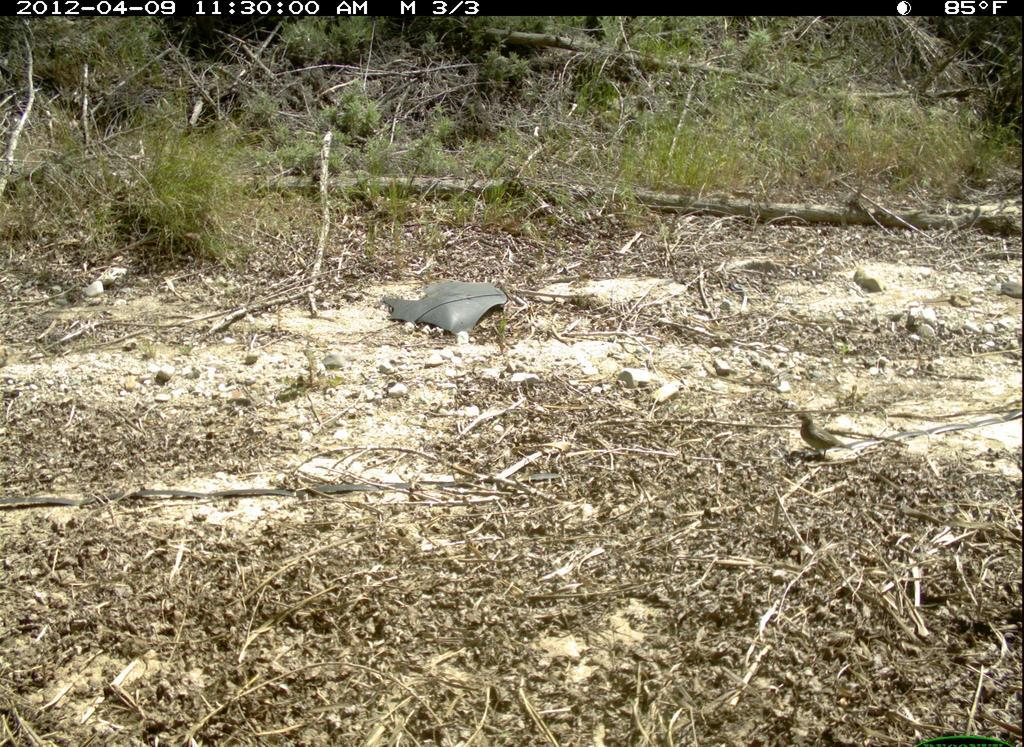bird: (790, 406, 853, 464)
